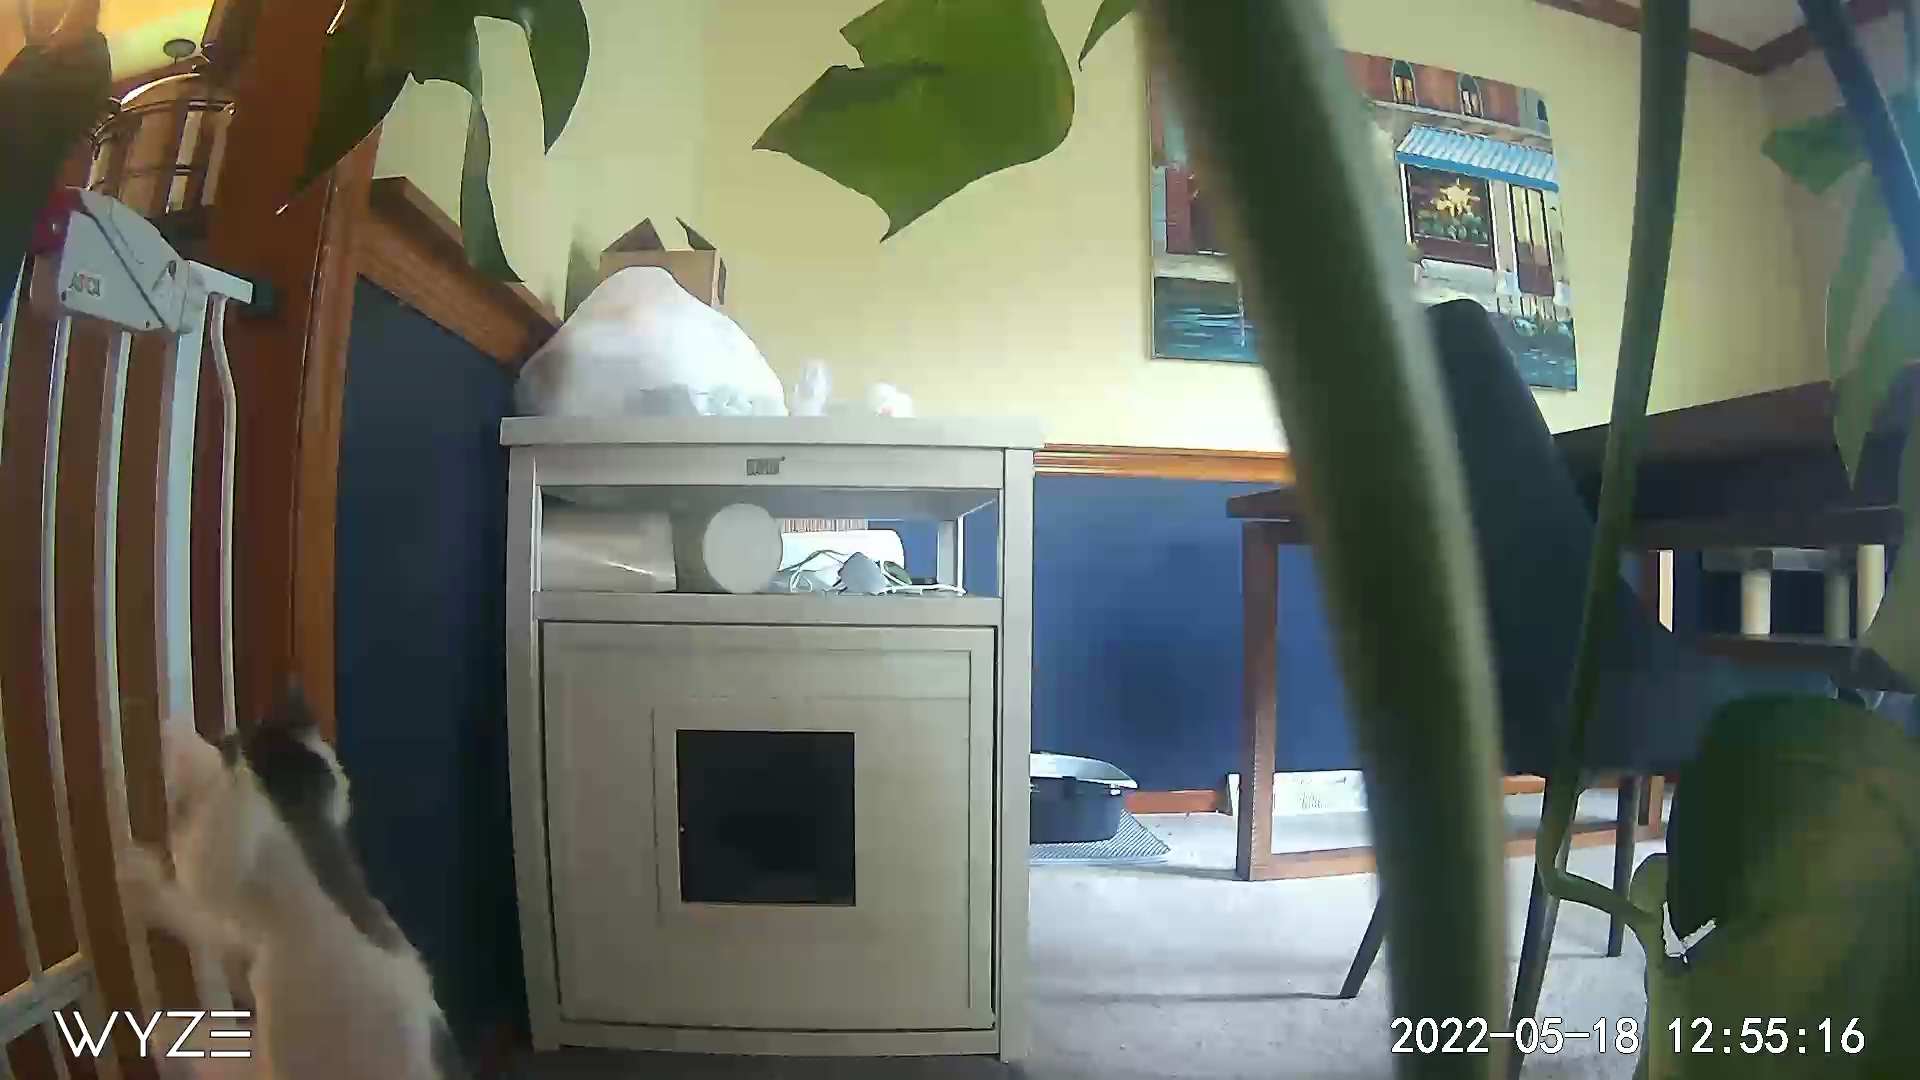maoxin: (123, 651, 448, 1007)
